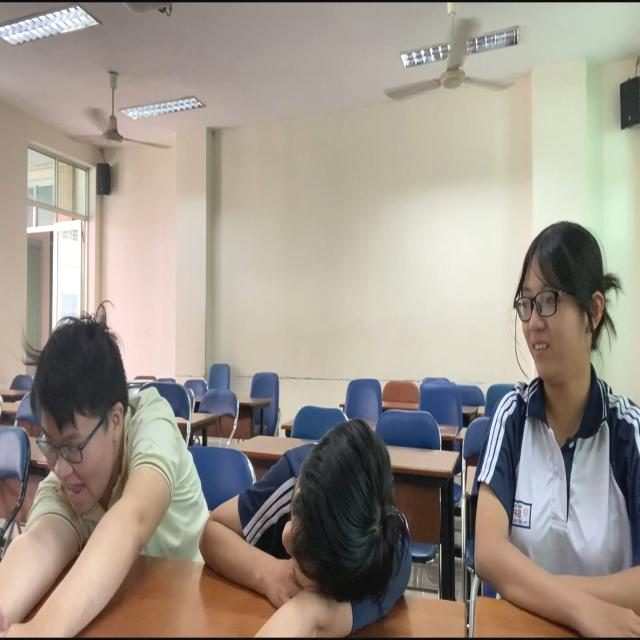sleep: (195, 410, 416, 640)
